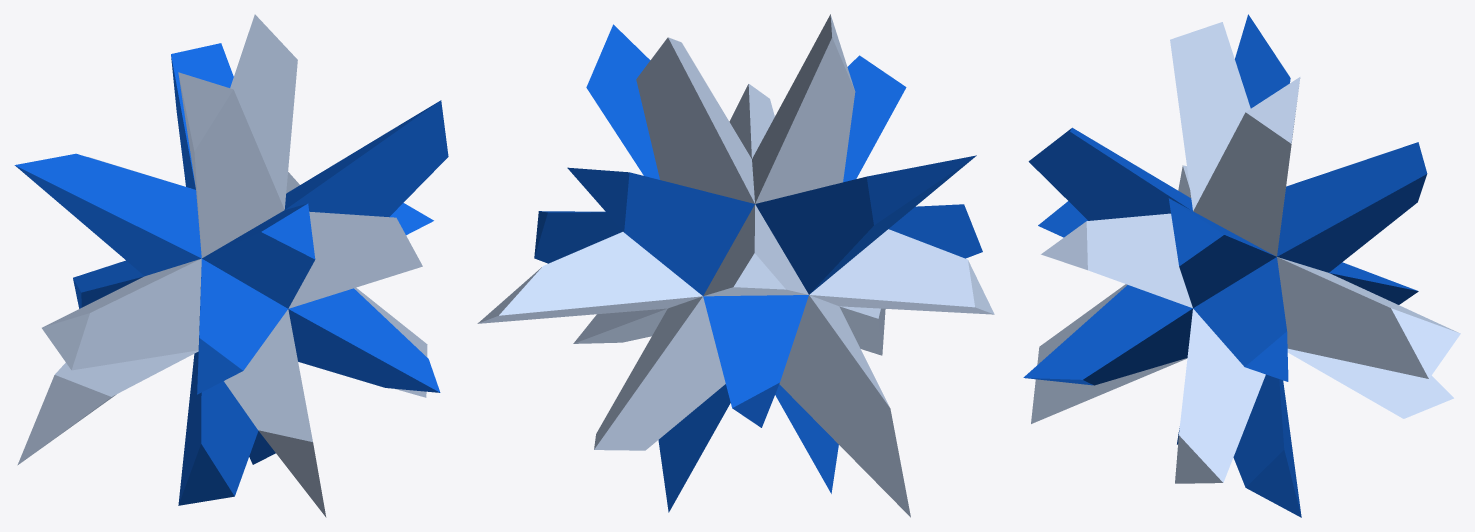
The picture shows the model from 3 angles, left to right: view 1: azimuth 30°, elevation 25°; view 2: azimuth 150°, elevation 25°; view 3: azimuth 270°, elevation 25°; orthographic projection. The views are drawn at different scales.
Visible parts, largest first — view 1: Material; view 2: Material; view 3: Material.
Part boxes in pixels (bbox=[...]): Material: bbox=[14, 14, 448, 517]; Material: bbox=[477, 14, 994, 517]; Material: bbox=[1023, 14, 1460, 517].
Bounding box in the file's own units: 61.05 × 62.93 × 56.49.
Materials: 1 (1 with a texture image).
